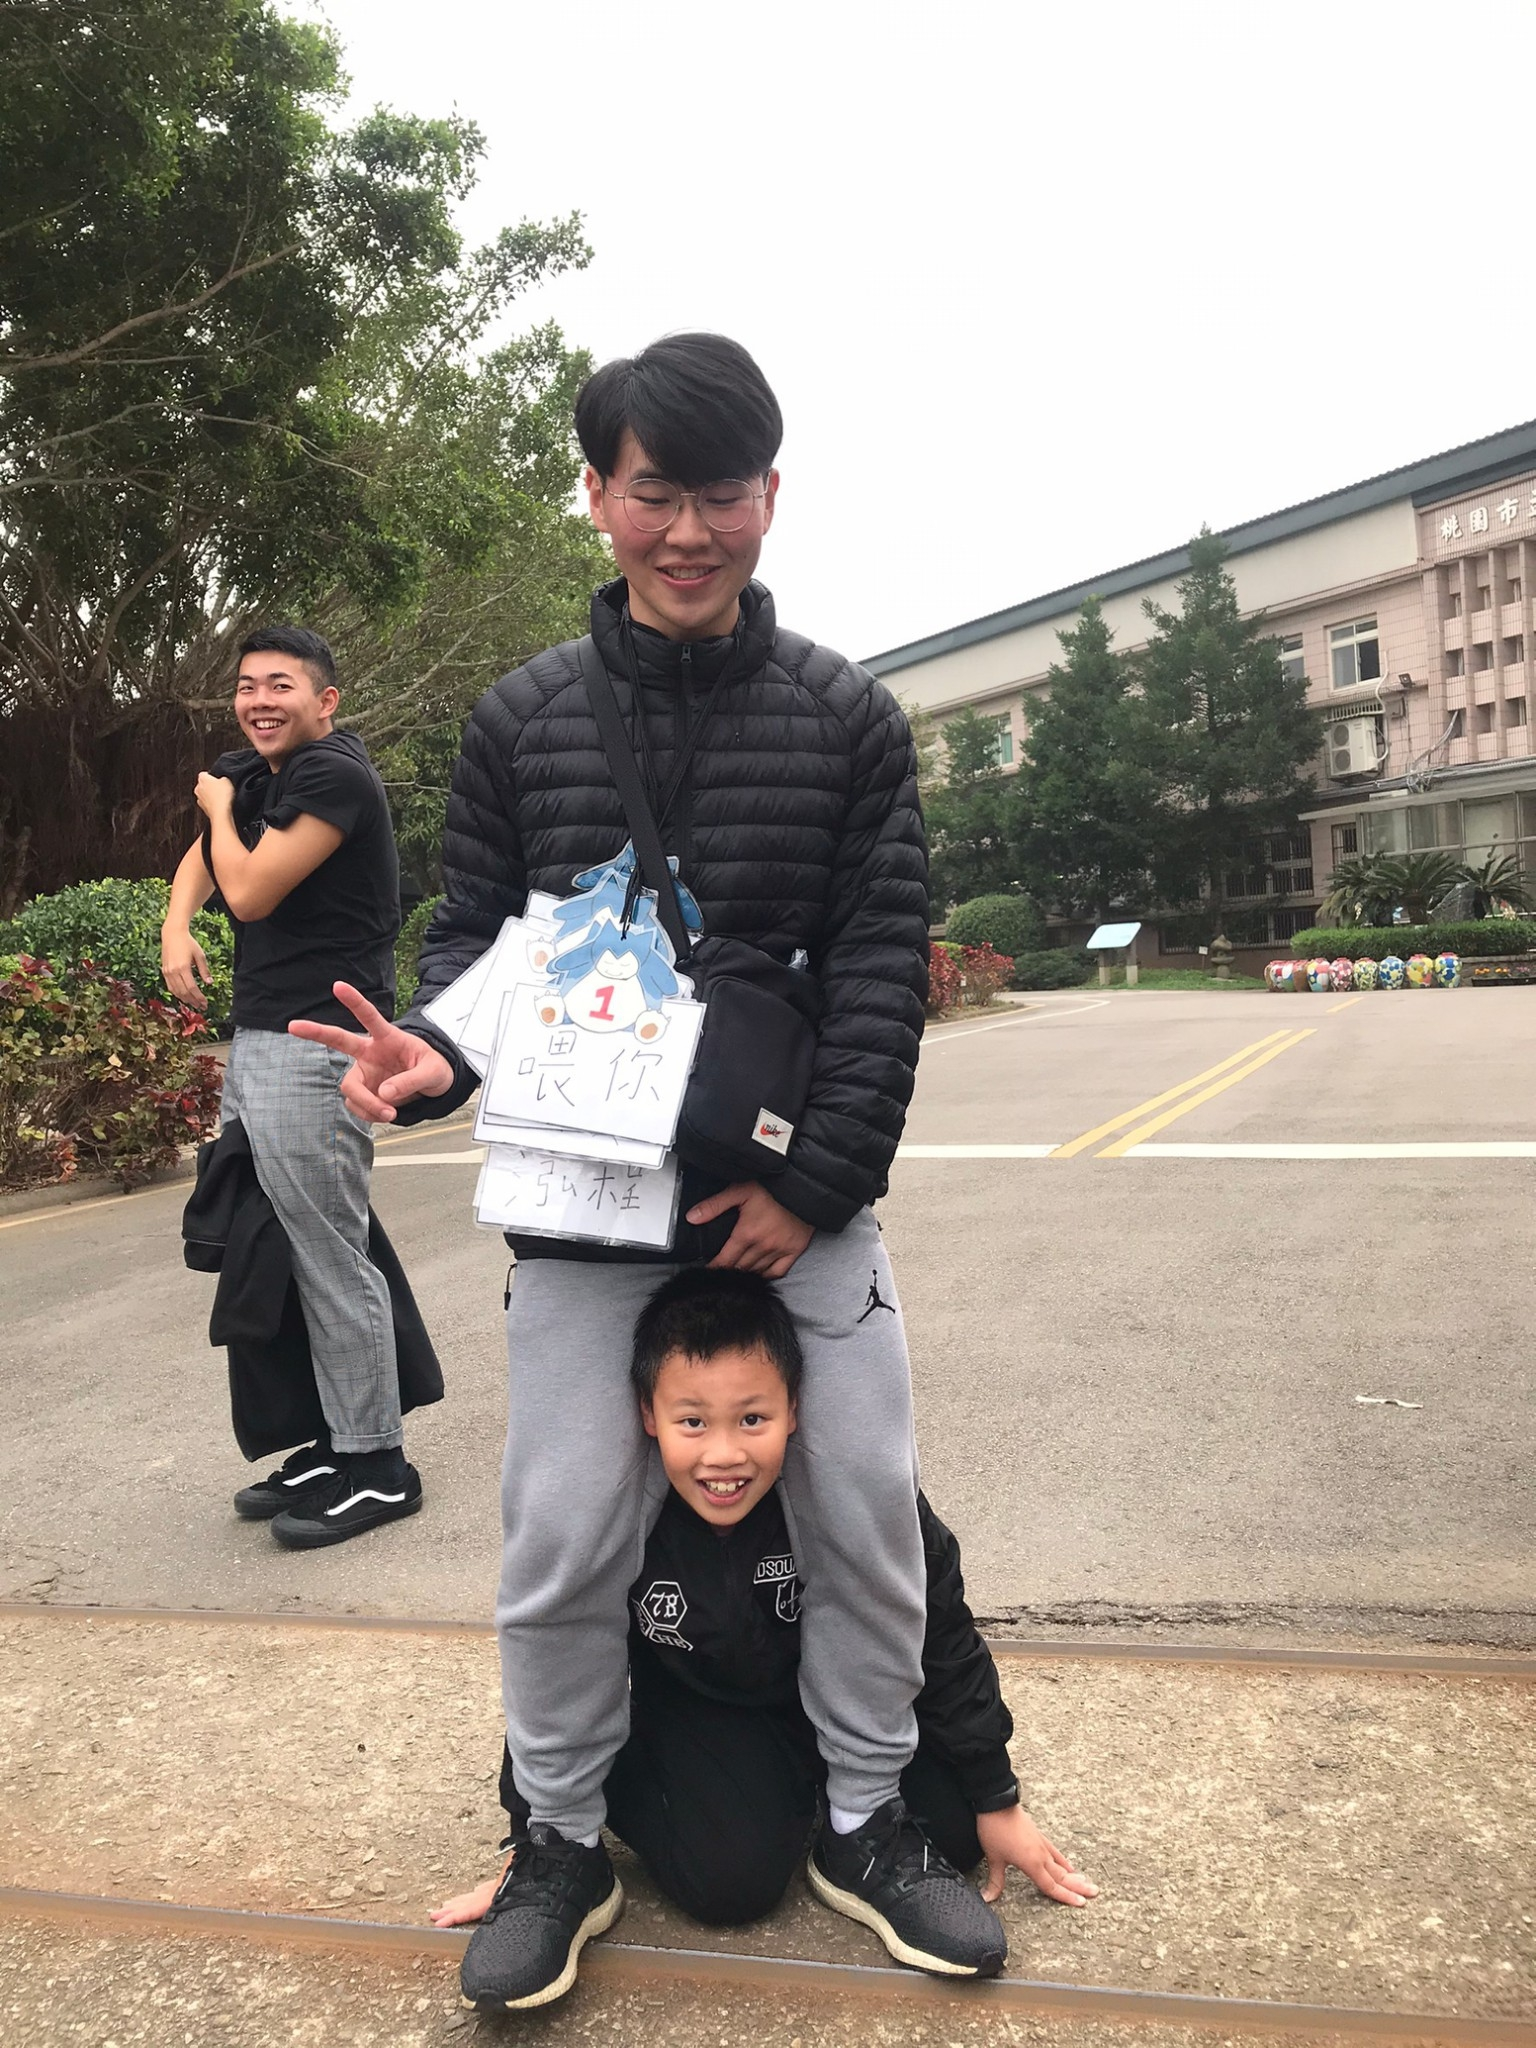people: (524, 360, 986, 1967), (556, 1270, 969, 1909), (208, 631, 421, 1531)
